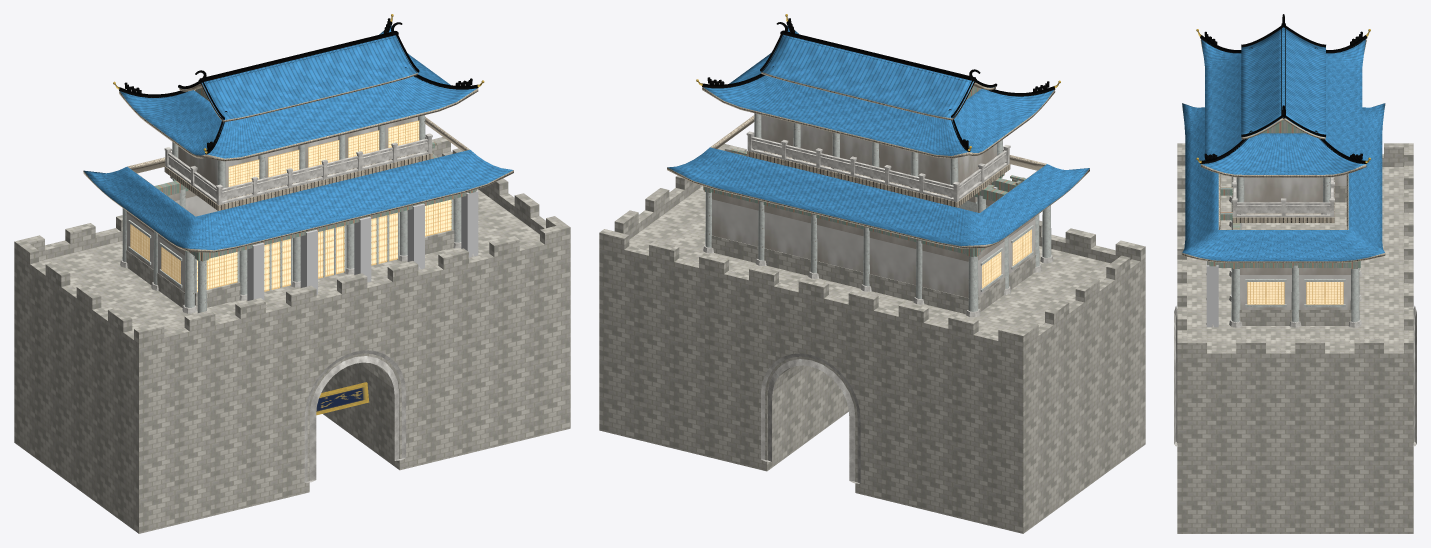
The model's file is immortal_palace_gate.glb.
The picture shows the model from 3 angles, left to right: view 1: azimuth 30°, elevation 25°; view 2: azimuth 150°, elevation 25°; view 3: azimuth 270°, elevation 25°; orthographic projection. The views are drawn at different scales.
Parts seen in each view (by area): view 1: PalaceGateArchBlock, PalaceGateTowerLowSkirt, PalaceGateBattlements, PalaceGateTowerLowerRoof, PalaceGateTowerGable, PalaceGateTowerLattice, PalaceGateTowerBalconyBalustrade, PalaceGateTowerColumns, PalaceGateTowerUpperLattice, PalaceGateArchRing, PalaceGateTowerDado, PalaceGateTowerUpperWalls (+13 smaller); view 2: PalaceGateArchBlock, PalaceGateTowerLowSkirt, PalaceGateBattlements, PalaceGateTowerLowerRoof, PalaceGateTowerWalls, PalaceGateTowerGable, PalaceGateTowerDado, PalaceGateTowerBalconyBalustrade, PalaceGateTowerUpperWalls, PalaceGateTowerColumns, PalaceGateArchRing, PalaceGateTowerUpperFloor (+5 smaller); view 3: PalaceGateArchBlock, PalaceGateTowerLowSkirt, PalaceGateTowerLowerRoof, PalaceGateBattlements, PalaceGateTowerGable, PalaceGateTowerWalls, PalaceGateTowerUpperWalls, PalaceGateTowerBalconyBalustrade, PalaceGateTowerDado, PalaceGateTowerLattice, PalaceGateTowerColumns, PalaceGateArchRing (+10 smaller).
Part boxes in pixels (x1,y1,x2,y2): PalaceGateArchBlock: (14,189,570,533); PalaceGateTowerLowSkirt: (83,117,513,252); PalaceGateBattlements: (14,137,570,353); PalaceGateTowerLowerRoof: (119,25,478,161); PalaceGateTowerGable: (179,35,418,122); PalaceGateTowerLattice: (130,199,451,292); PalaceGateTowerBalconyBalustrade: (164,133,432,205); PalaceGateTowerColumns: (122,189,461,312); PalaceGateTowerUpperLattice: (228,120,419,186); PalaceGateArchRing: (304,350,405,482); PalaceGateTowerDado: (126,230,454,310); PalaceGateTowerUpperWalls: (178,117,417,187); PalaceGateArchBlock: (599,186,1145,533); PalaceGateTowerLowSkirt: (667,115,1089,248); PalaceGateBattlements: (599,144,1145,356); PalaceGateTowerLowerRoof: (702,26,1055,158); PalaceGateTowerWalls: (712,192,1035,297); PalaceGateTowerGable: (761,34,995,120); PalaceGateTowerDado: (711,235,1035,314); PalaceGateTowerBalconyBalustrade: (746,131,1010,201); PalaceGateTowerUpperWalls: (761,115,996,184); PalaceGateTowerColumns: (705,192,1051,311); PalaceGateArchRing: (761,353,860,483); PalaceGateTowerUpperFloor: (747,151,1010,207); PalaceGateArchBlock: (1177,167,1413,533); PalaceGateTowerLowSkirt: (1182,103,1385,262); PalaceGateTowerLowerRoof: (1200,39,1366,177); PalaceGateBattlements: (1177,143,1413,362); PalaceGateTowerGable: (1241,27,1325,139); PalaceGateTowerWalls: (1240,174,1350,309); PalaceGateTowerUpperWalls: (1244,177,1322,202); PalaceGateTowerBalconyBalustrade: (1232,177,1334,217); PalaceGateTowerDado: (1239,186,1351,325); PalaceGateTowerLattice: (1247,282,1343,304); PalaceGateTowerColumns: (1231,177,1359,322); PalaceGateArchRing: (1174,306,1416,446).
Size of what is drawn, in the model's own units: 24 by 20.93 by 12.32.
13 materials, 13 textured.
